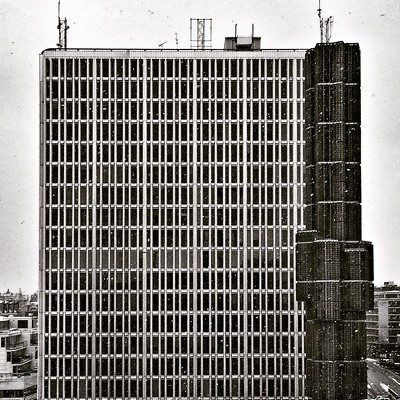high: (32, 38, 372, 400)
